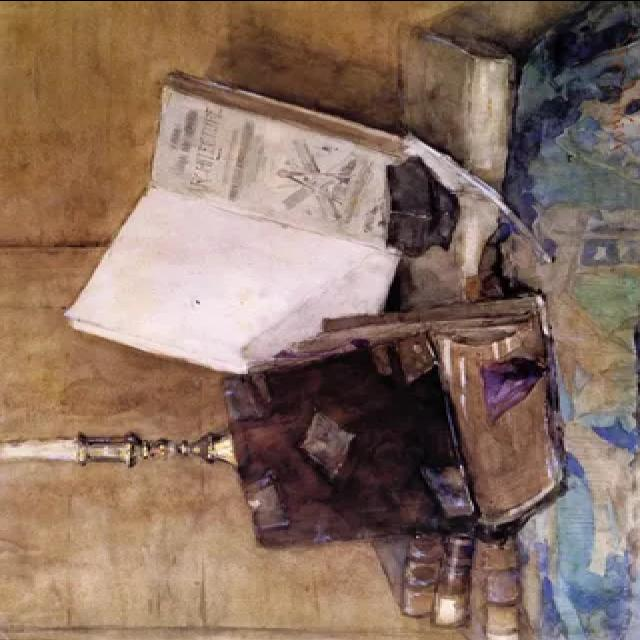book: (217, 284, 586, 556)
